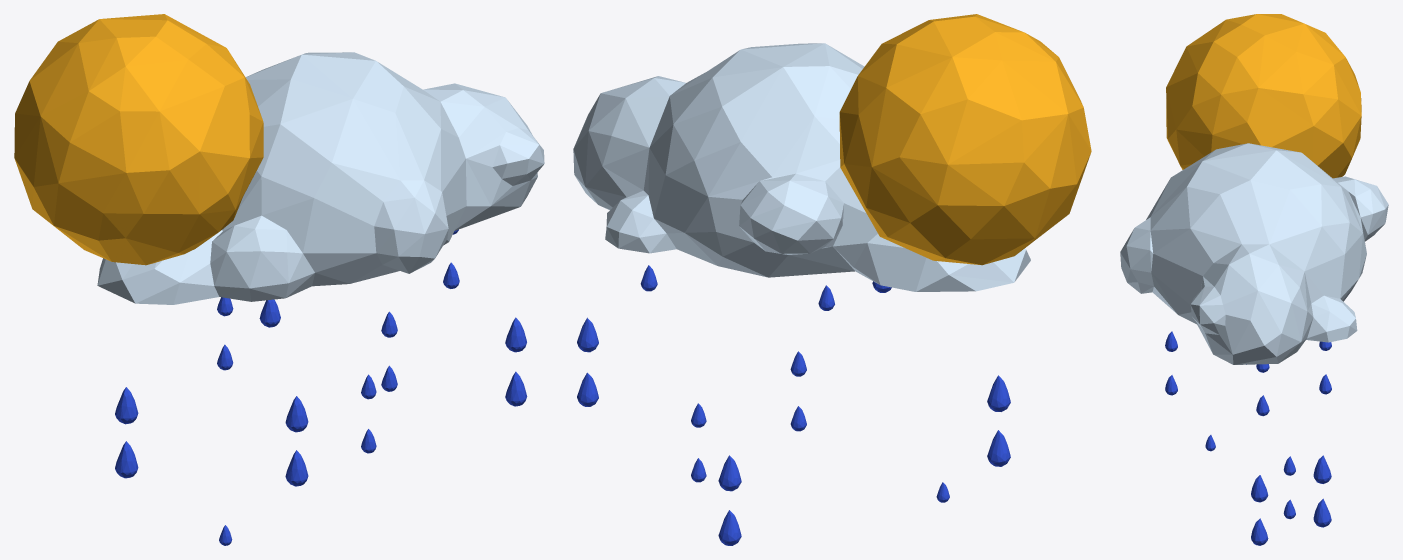
Rendered from Rain.gltf.
3 views of the same model, side by side, from view 1: azimuth 30°, elevation 25°; view 2: azimuth 150°, elevation 25°; view 3: azimuth 270°, elevation 25° (orthographic). The views are drawn at different scales.
Visible parts, largest first — view 1: Icosphere.005, Icosphere.001; view 2: Icosphere.005, Icosphere.001; view 3: Icosphere.005, Icosphere.001, Raindrop.021, Raindrop.002, Raindrop.023.
Boxes of the visible parts, <box> form: Icosphere.005: <box>97,52,544,304</box>; Icosphere.001: <box>14,14,263,265</box>; Icosphere.005: <box>573,43,1030,291</box>; Icosphere.001: <box>839,14,1091,265</box>; Icosphere.005: <box>1120,143,1388,364</box>; Icosphere.001: <box>1166,14,1361,178</box>; Raindrop.021: <box>1313,498,1331,527</box>; Raindrop.002: <box>1313,455,1331,483</box>; Raindrop.023: <box>1251,518,1268,545</box>.
Bounding box in the file's own units: 3.85 × 3.96 × 2.26.
